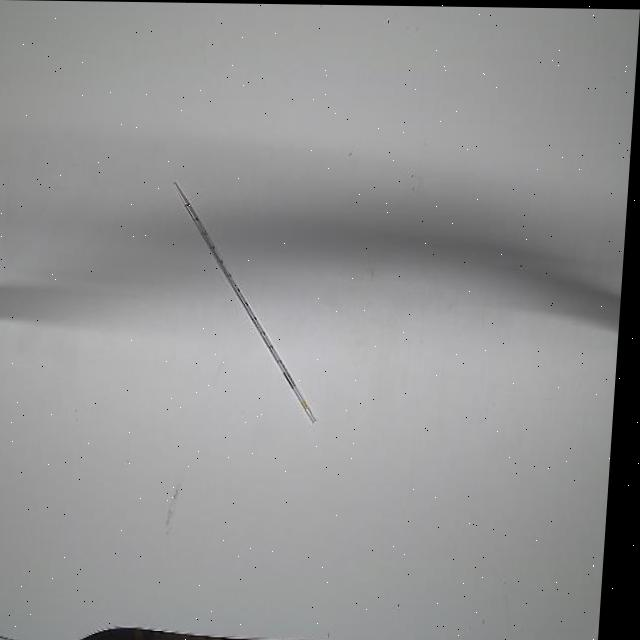Serelogical Pipet 1 mL: (162, 177, 340, 430)
